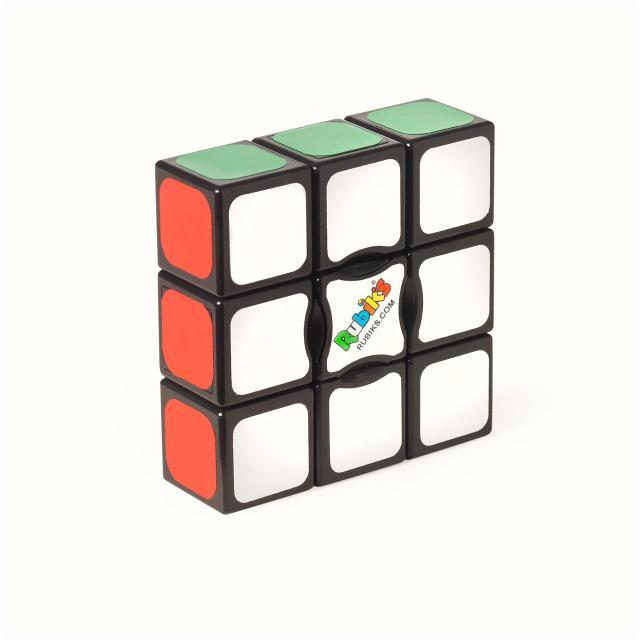Rub: (126, 96, 512, 514)
